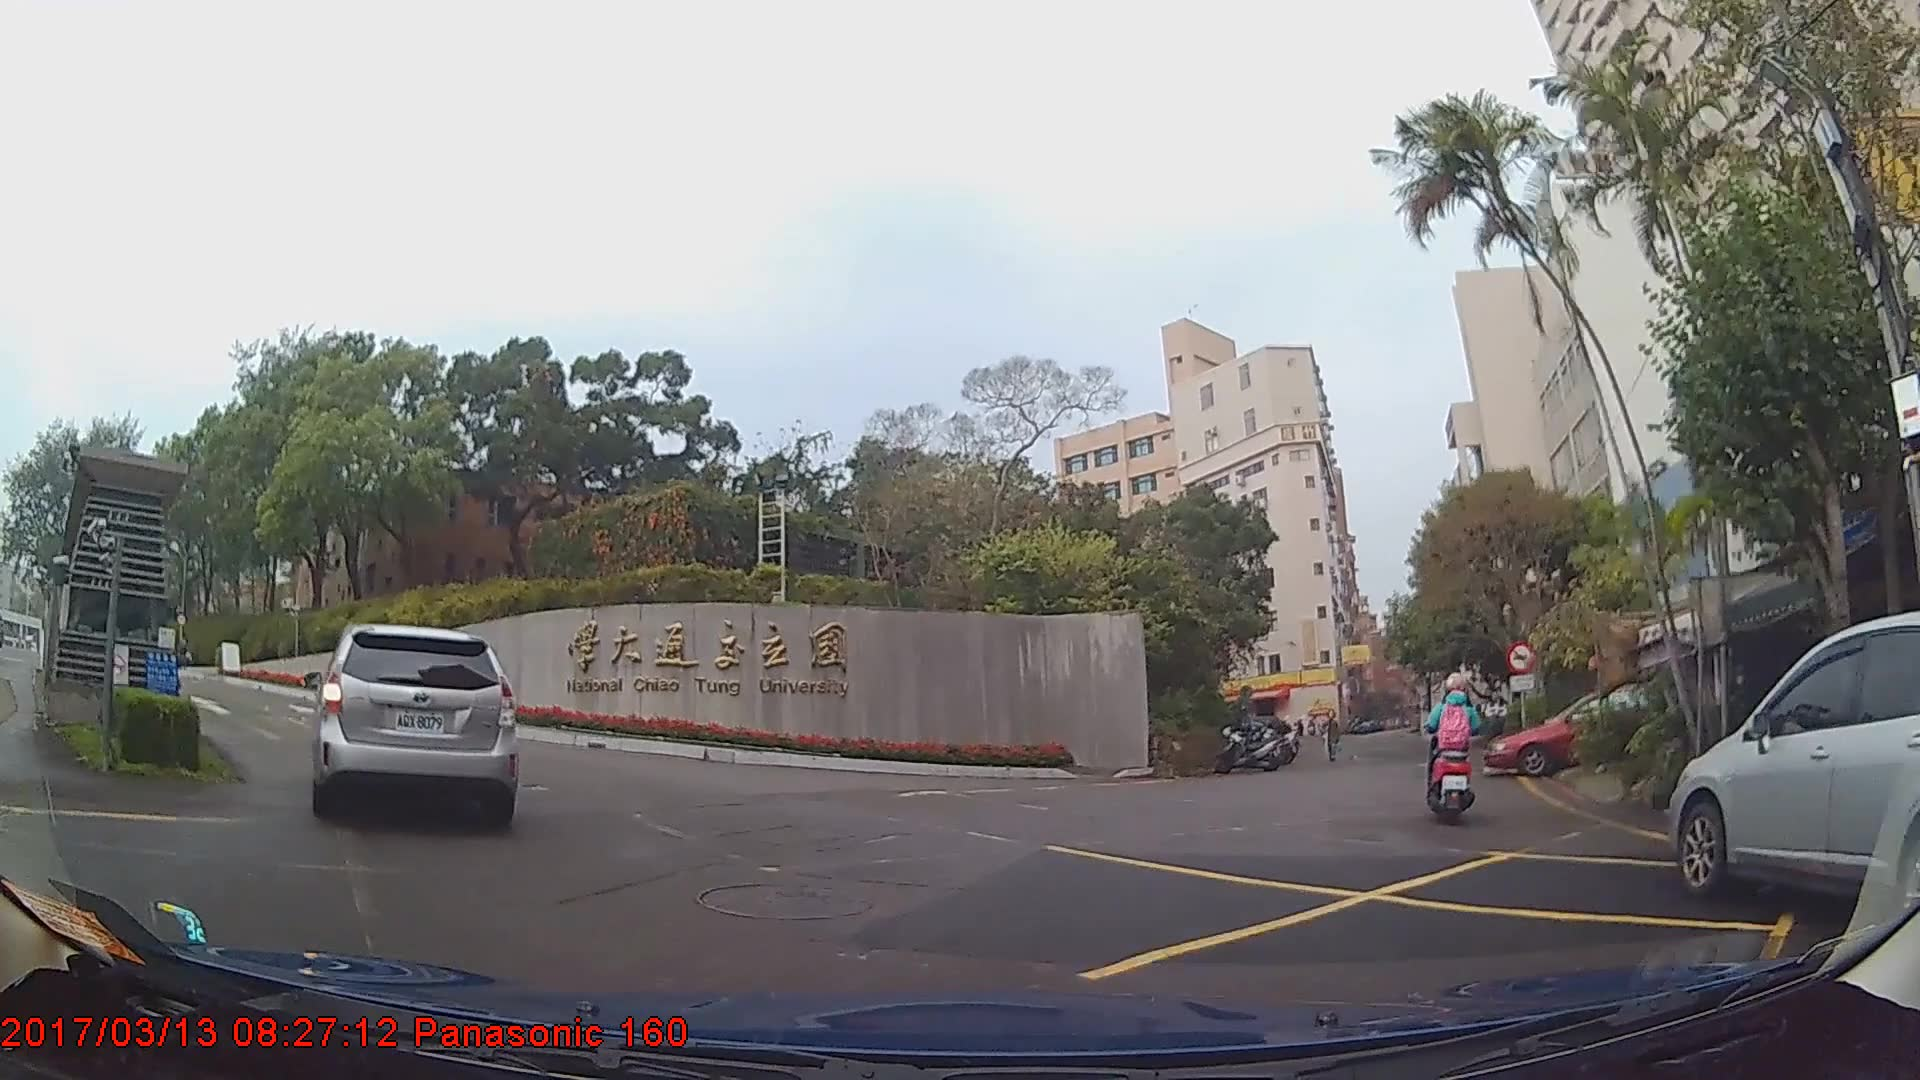pedestrian: (1322, 711, 1345, 766)
rider: (1422, 666, 1481, 827)
vehicle: (1671, 614, 1920, 927), (305, 620, 516, 830), (1487, 686, 1681, 776)
